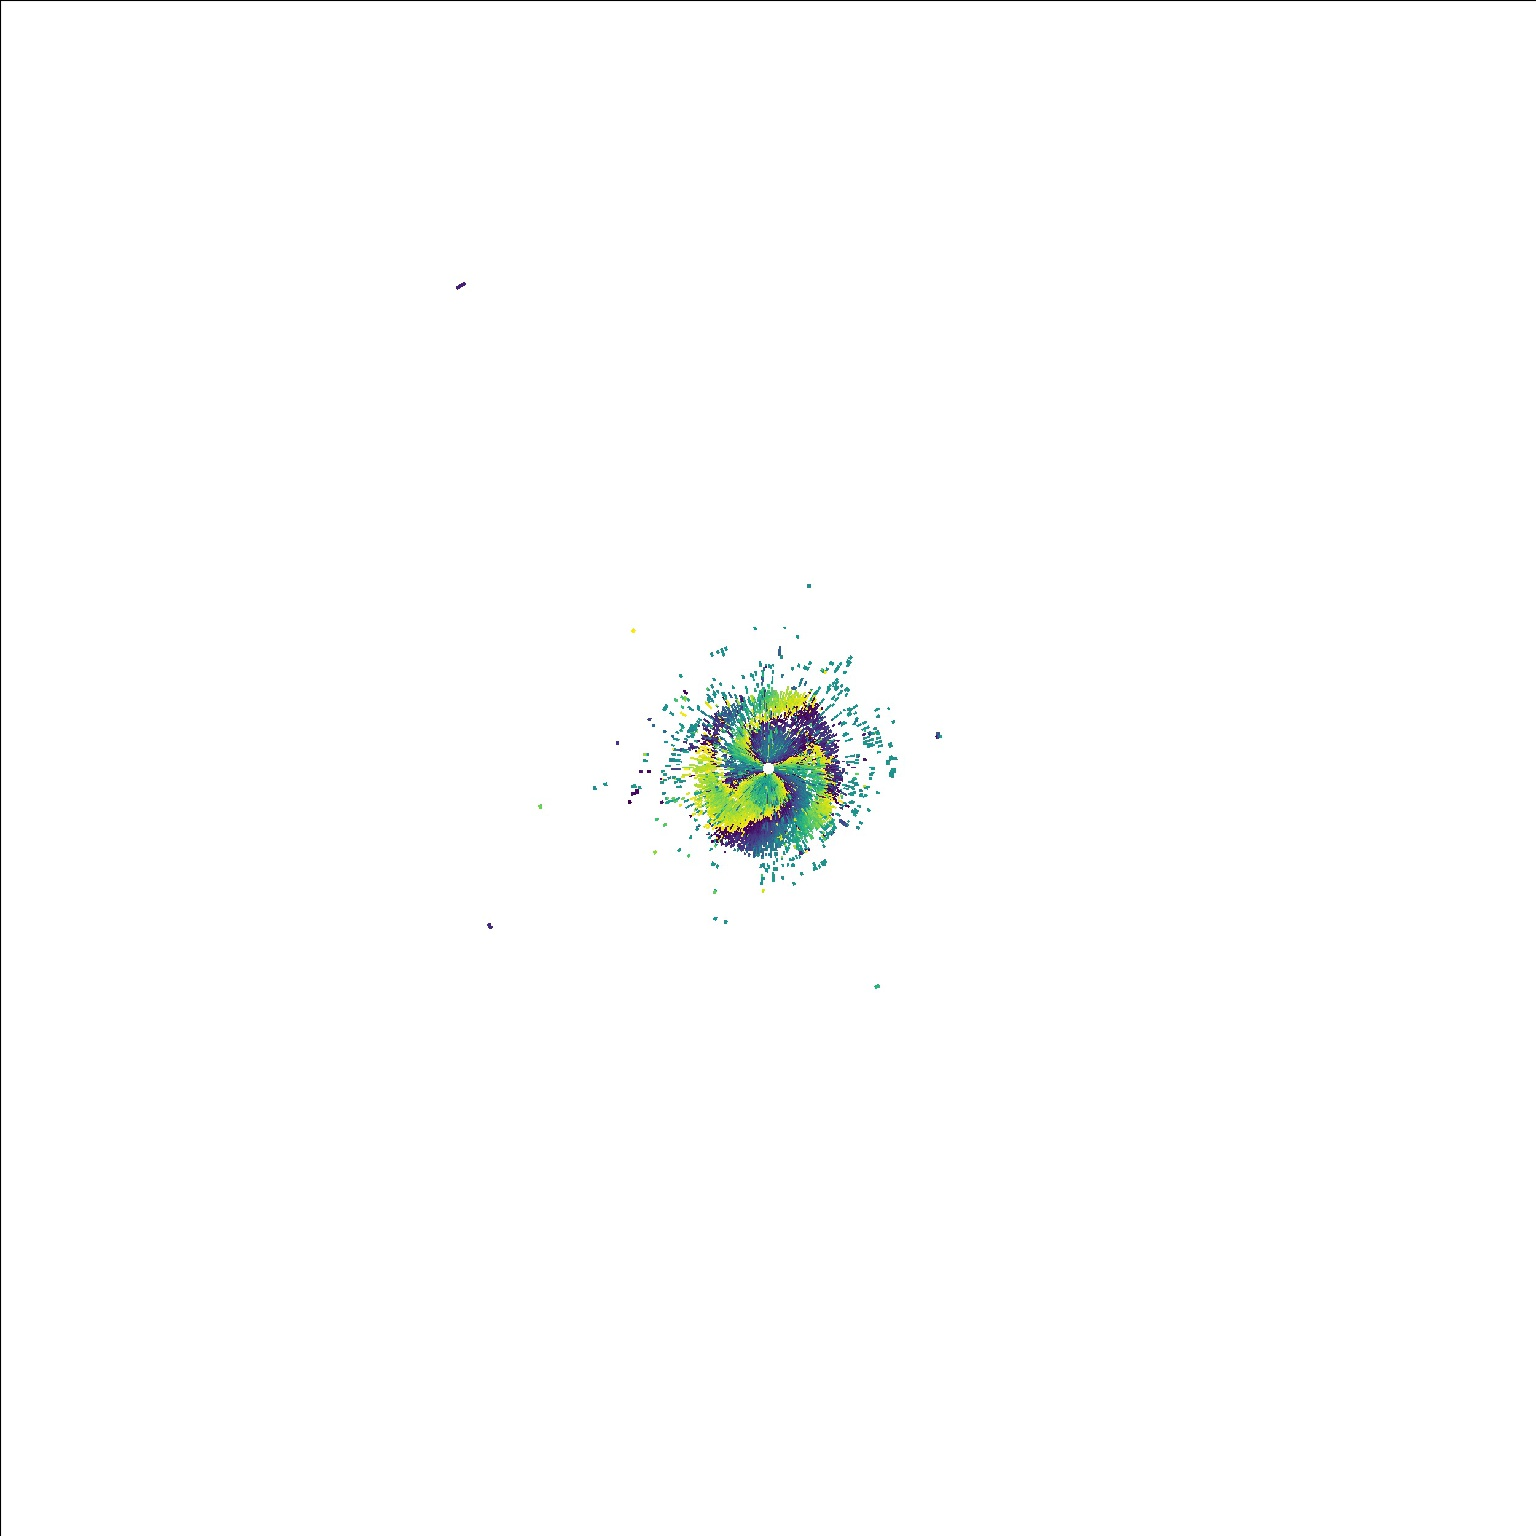fall: (927, 726, 948, 743)
